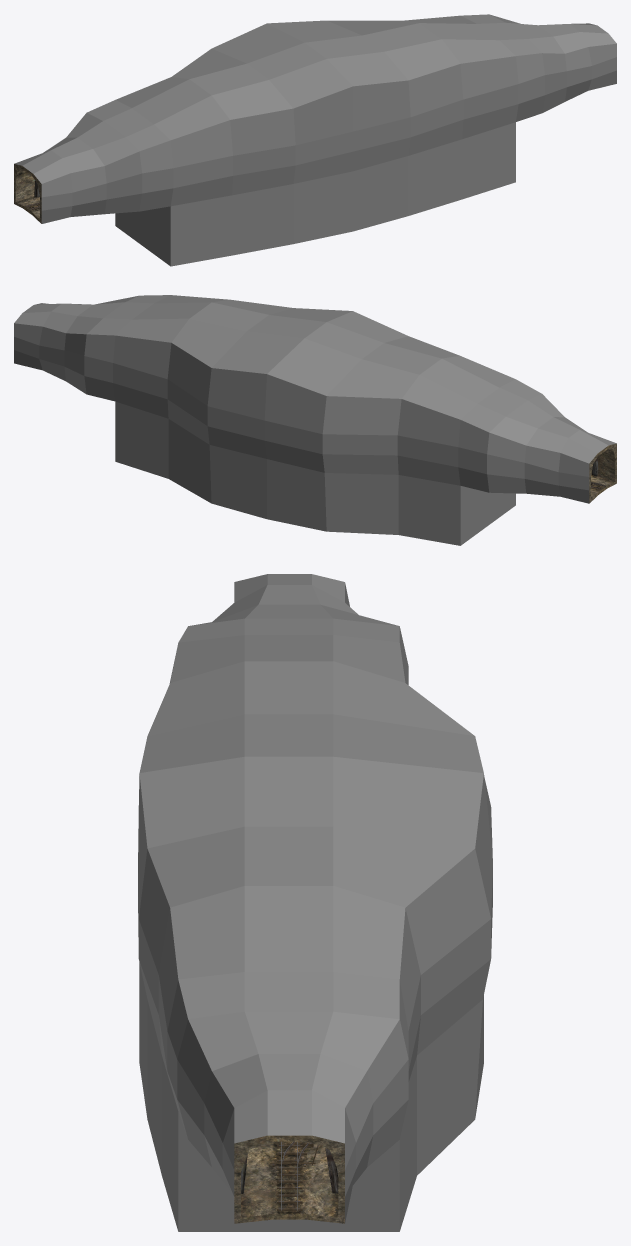
Rendered from svgoldmine08.dae.
The picture shows the model from 3 angles, top to bottom: view 1: azimuth 30°, elevation 25°; view 2: azimuth 150°, elevation 25°; view 3: azimuth 270°, elevation 25°; orthographic projection. The views are drawn at different scales.
Parts seen in each view (by area): view 1: unnamed_object1_sep1187-0; view 2: unnamed_object1_sep1187-0; view 3: unnamed_object1_sep1187-0, unnamed_object1_sep561-0.
Part boxes in pixels (box(x1,y1,x2,y2)): unnamed_object1_sep1187-0: box(14, 14, 616, 266); unnamed_object1_sep1187-0: box(14, 295, 616, 545); unnamed_object1_sep1187-0: box(138, 574, 492, 1231); unnamed_object1_sep561-0: box(270, 1141, 318, 1212).
Size of the model in its own units: 18000 by 4586 by 4809.
